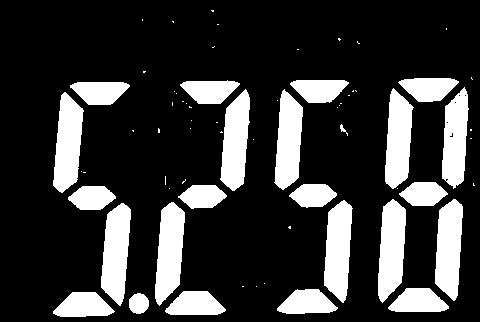2: (154, 77, 253, 317)
5: (48, 77, 134, 317), (271, 79, 355, 317)
8: (374, 74, 473, 312)
dot: (129, 290, 152, 317)
